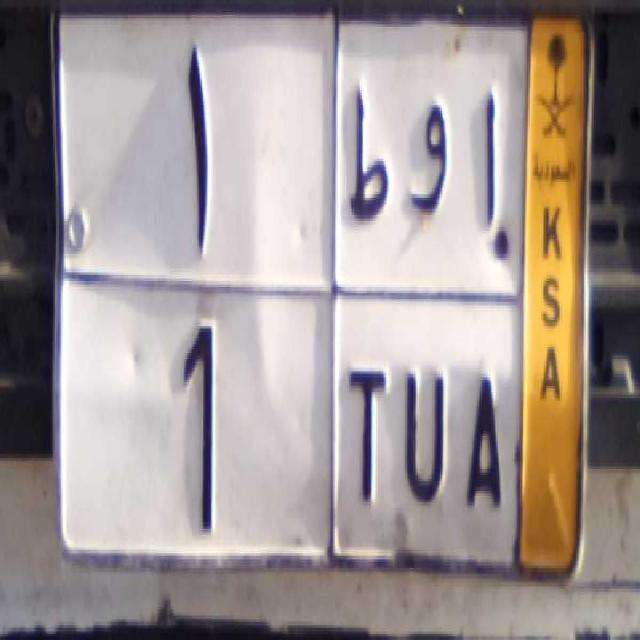license_plate: (57, 267, 519, 578)
